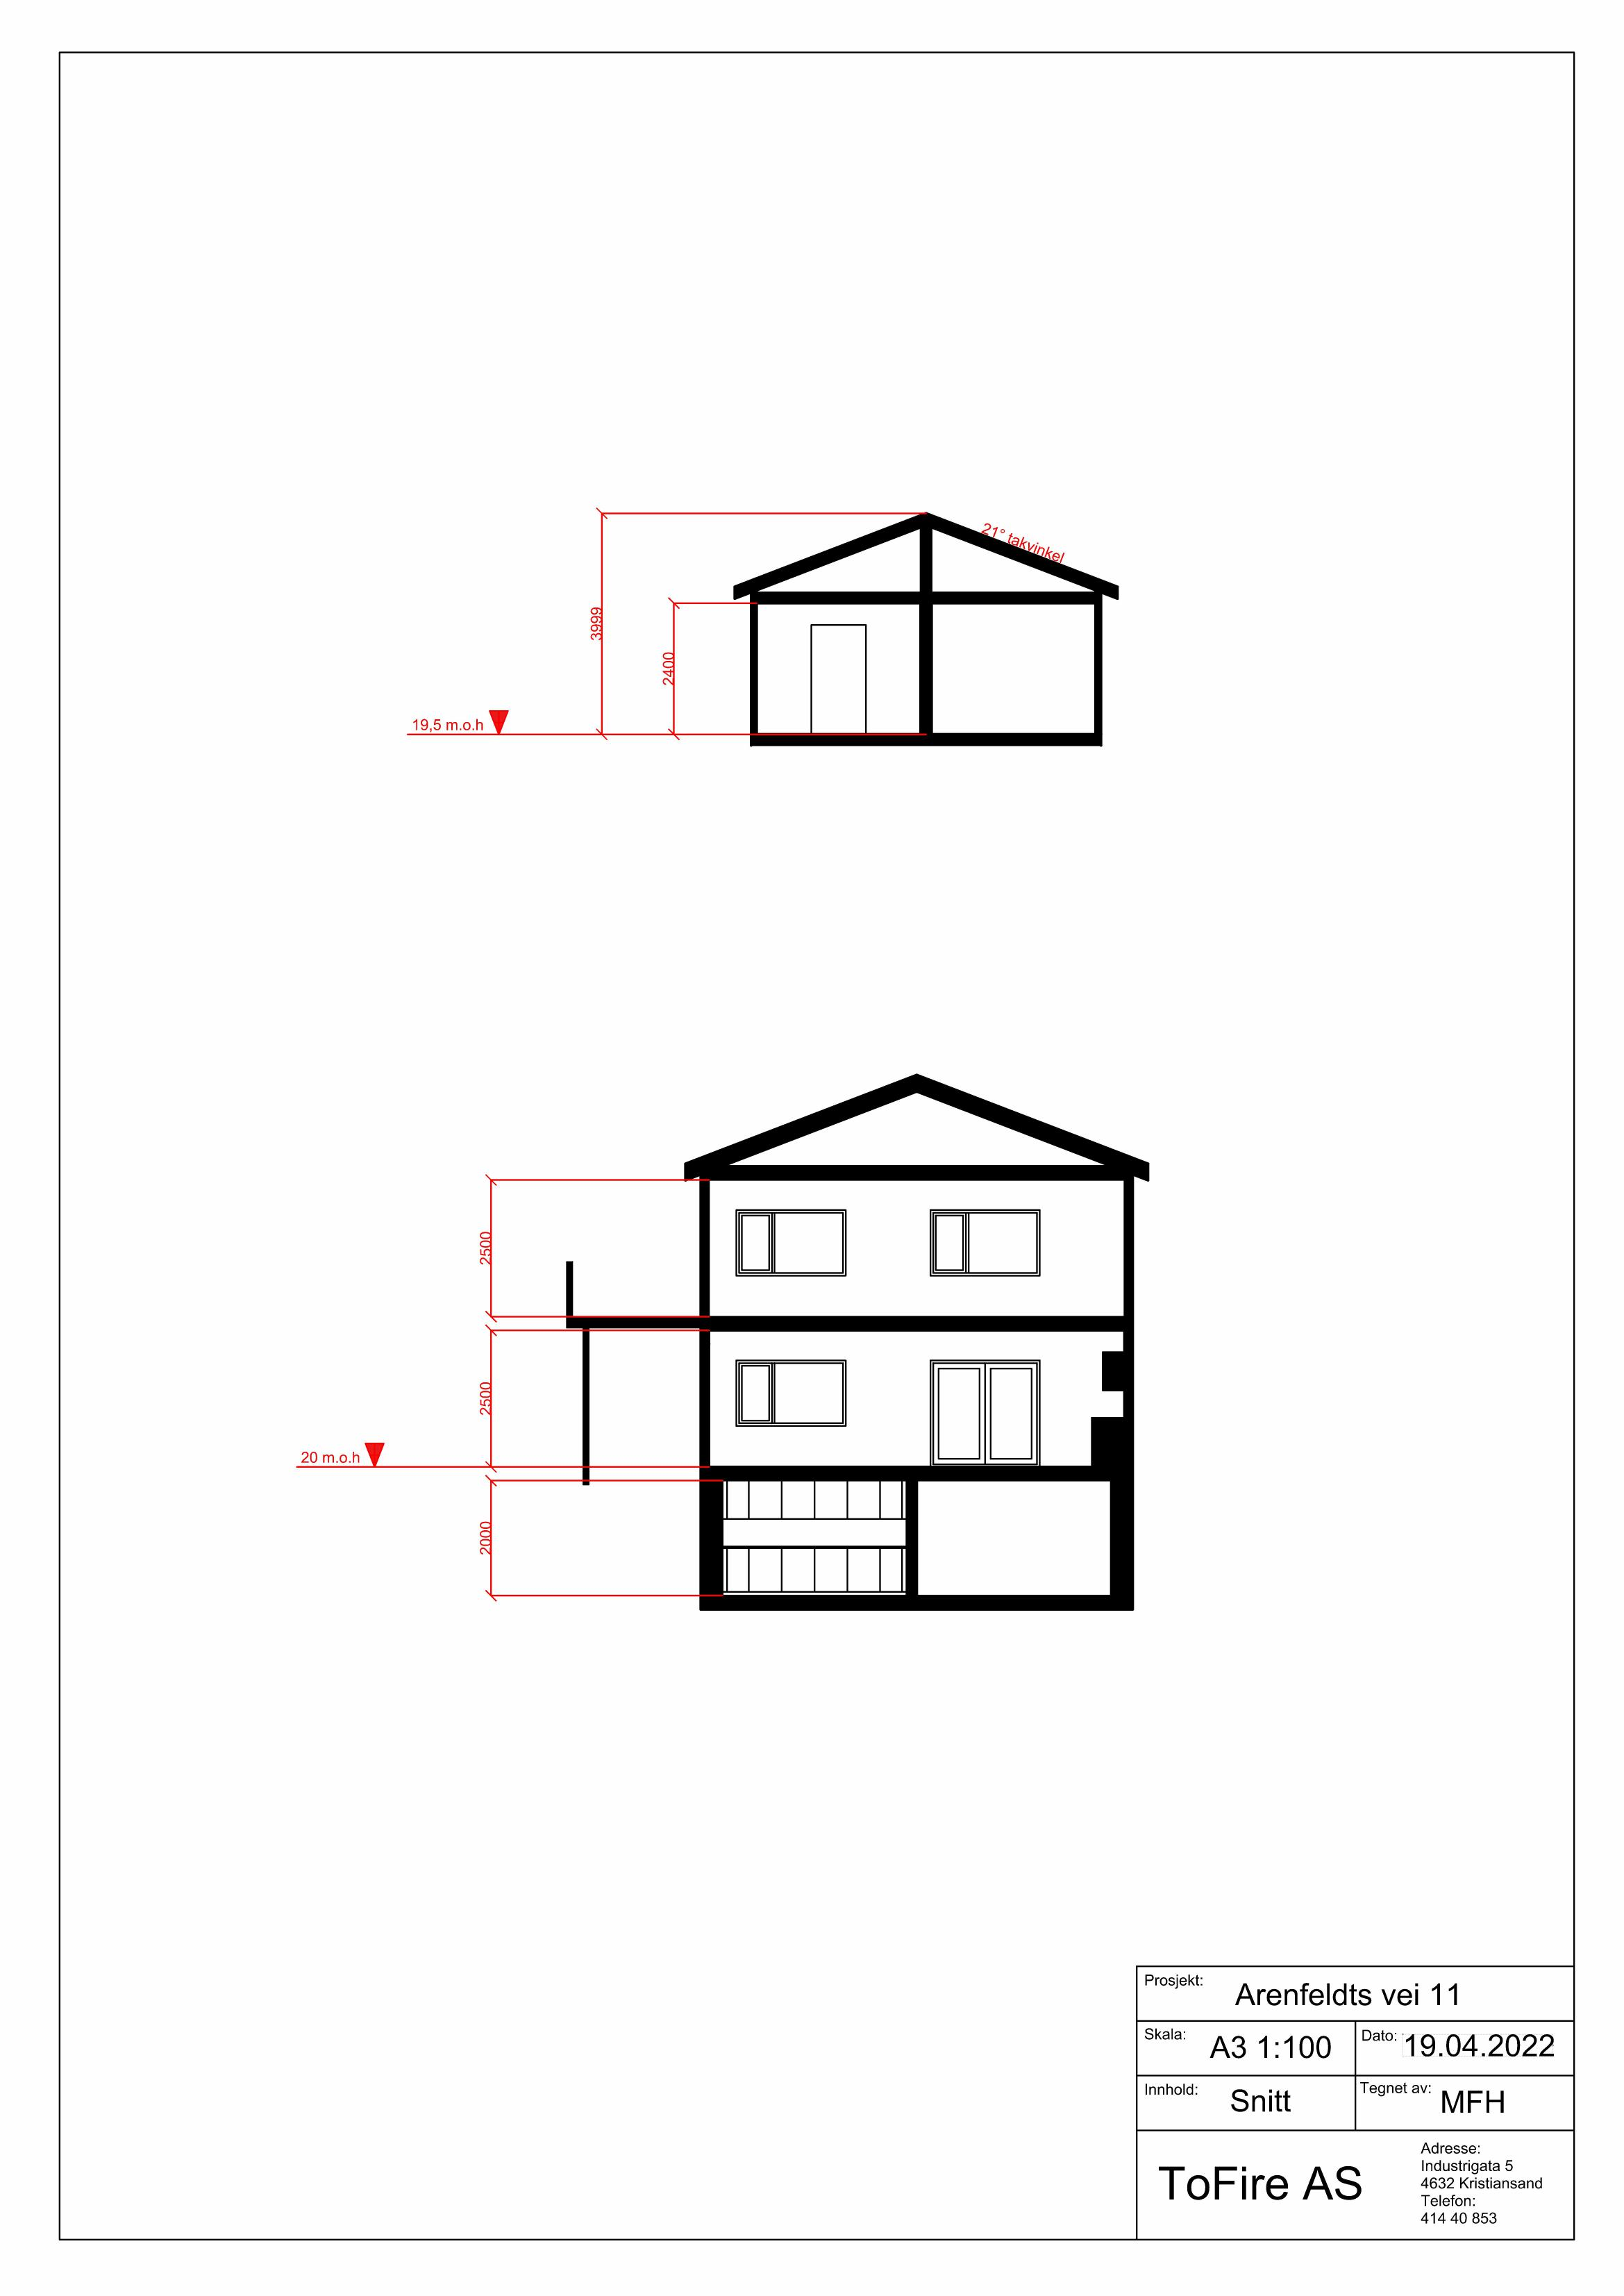snitt: (471, 1059, 1158, 1634), (575, 492, 1125, 766)
